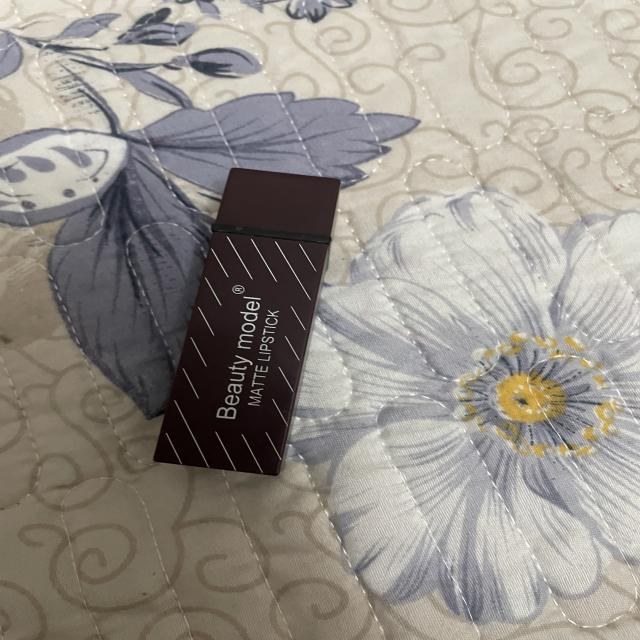lip stick: (134, 143, 356, 478)
